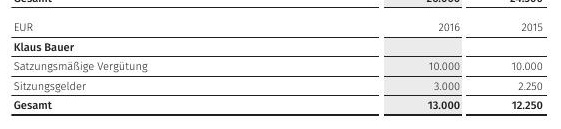table: (0, 0, 561, 129)
